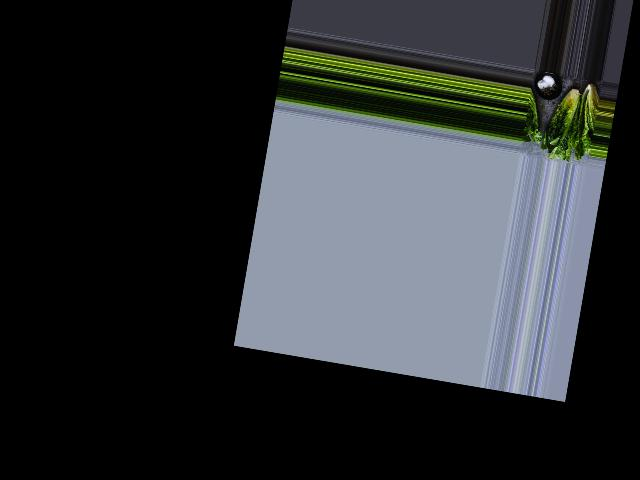lettuce: (569, 77, 602, 155)
